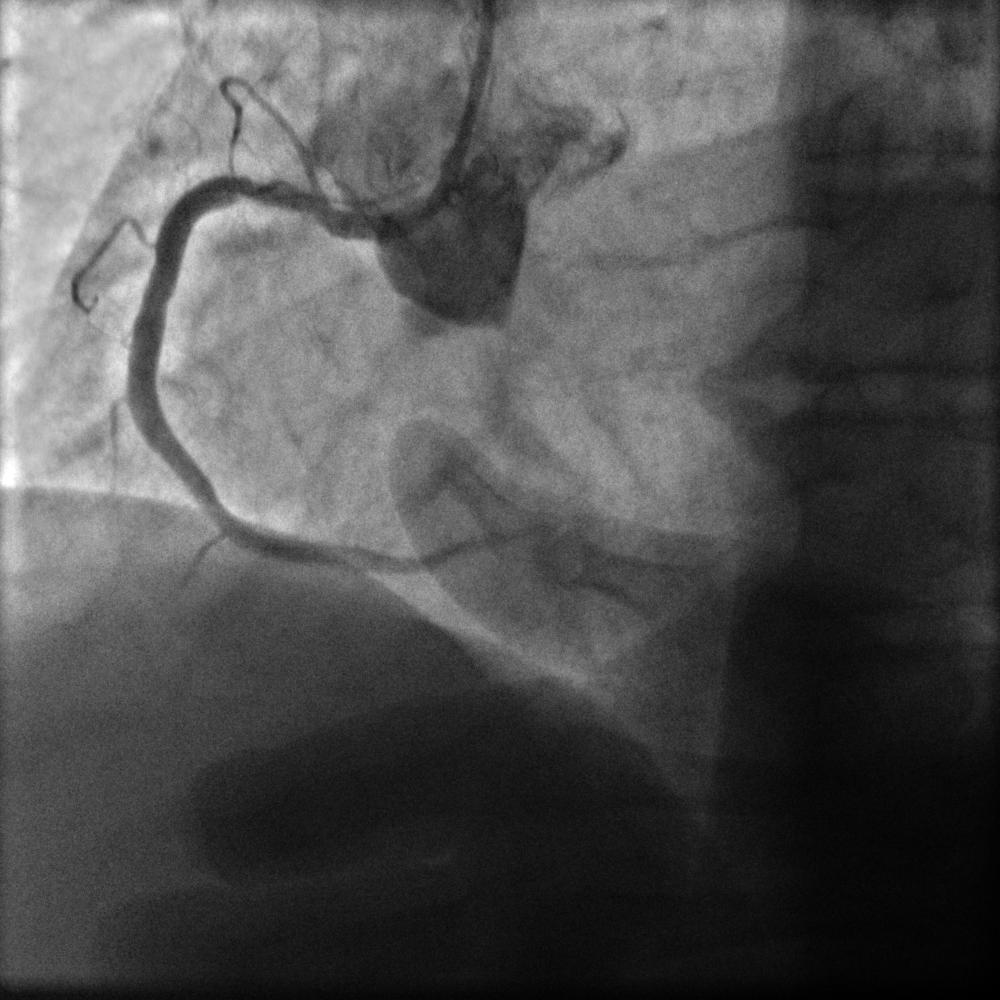Stenosis: (230, 162, 328, 238)
